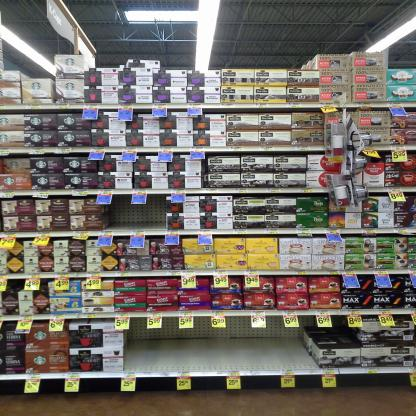Void: (126, 324, 308, 366), (113, 202, 160, 227)
